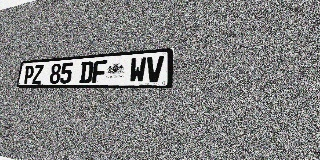plate: (16, 48, 174, 88)
